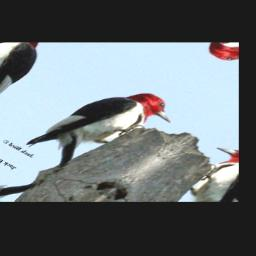Woodpecker: (20, 76, 190, 182)
